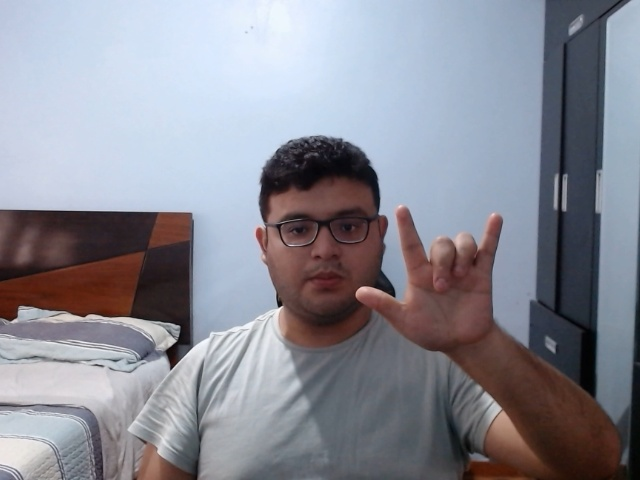I love you: (353, 199, 508, 360)
